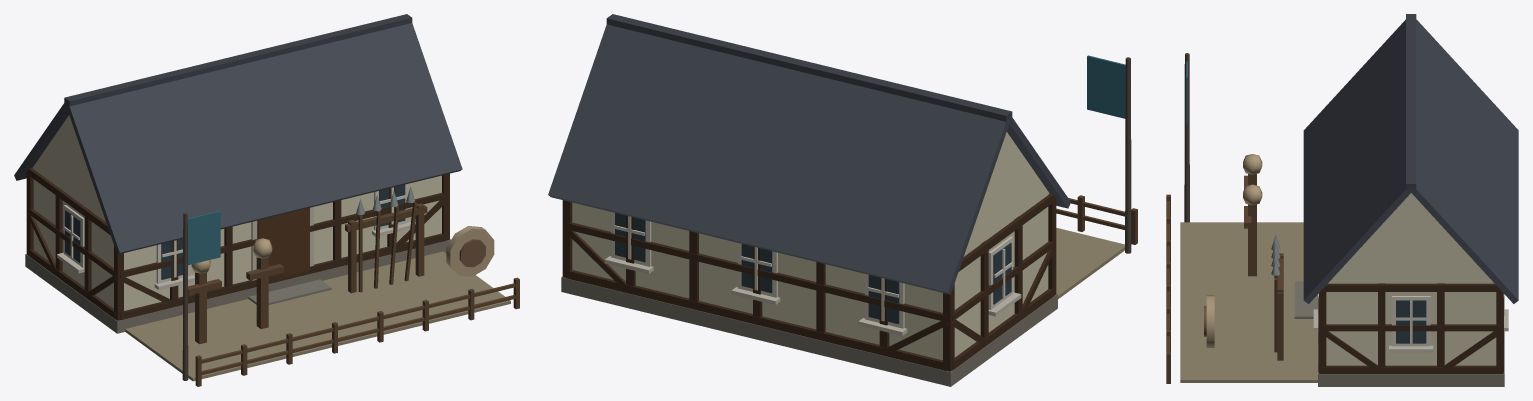
Rendered from procedural_barracks@3.glb.
3 views of the same model, side by side, from view 1: azimuth 30°, elevation 25°; view 2: azimuth 150°, elevation 25°; view 3: azimuth 270°, elevation 25° (orthographic). The views are drawn at different scales.
Visible parts, largest first — view 1: part_0; view 2: part_0; view 3: part_0.
Part boxes in pixels (x1,y1,x2,y2): part_0: [14, 14, 519, 386]; part_0: [548, 14, 1137, 386]; part_0: [1166, 14, 1518, 386].
Bounding box in the file's own units: 8.62 × 4.86 × 7.55.
